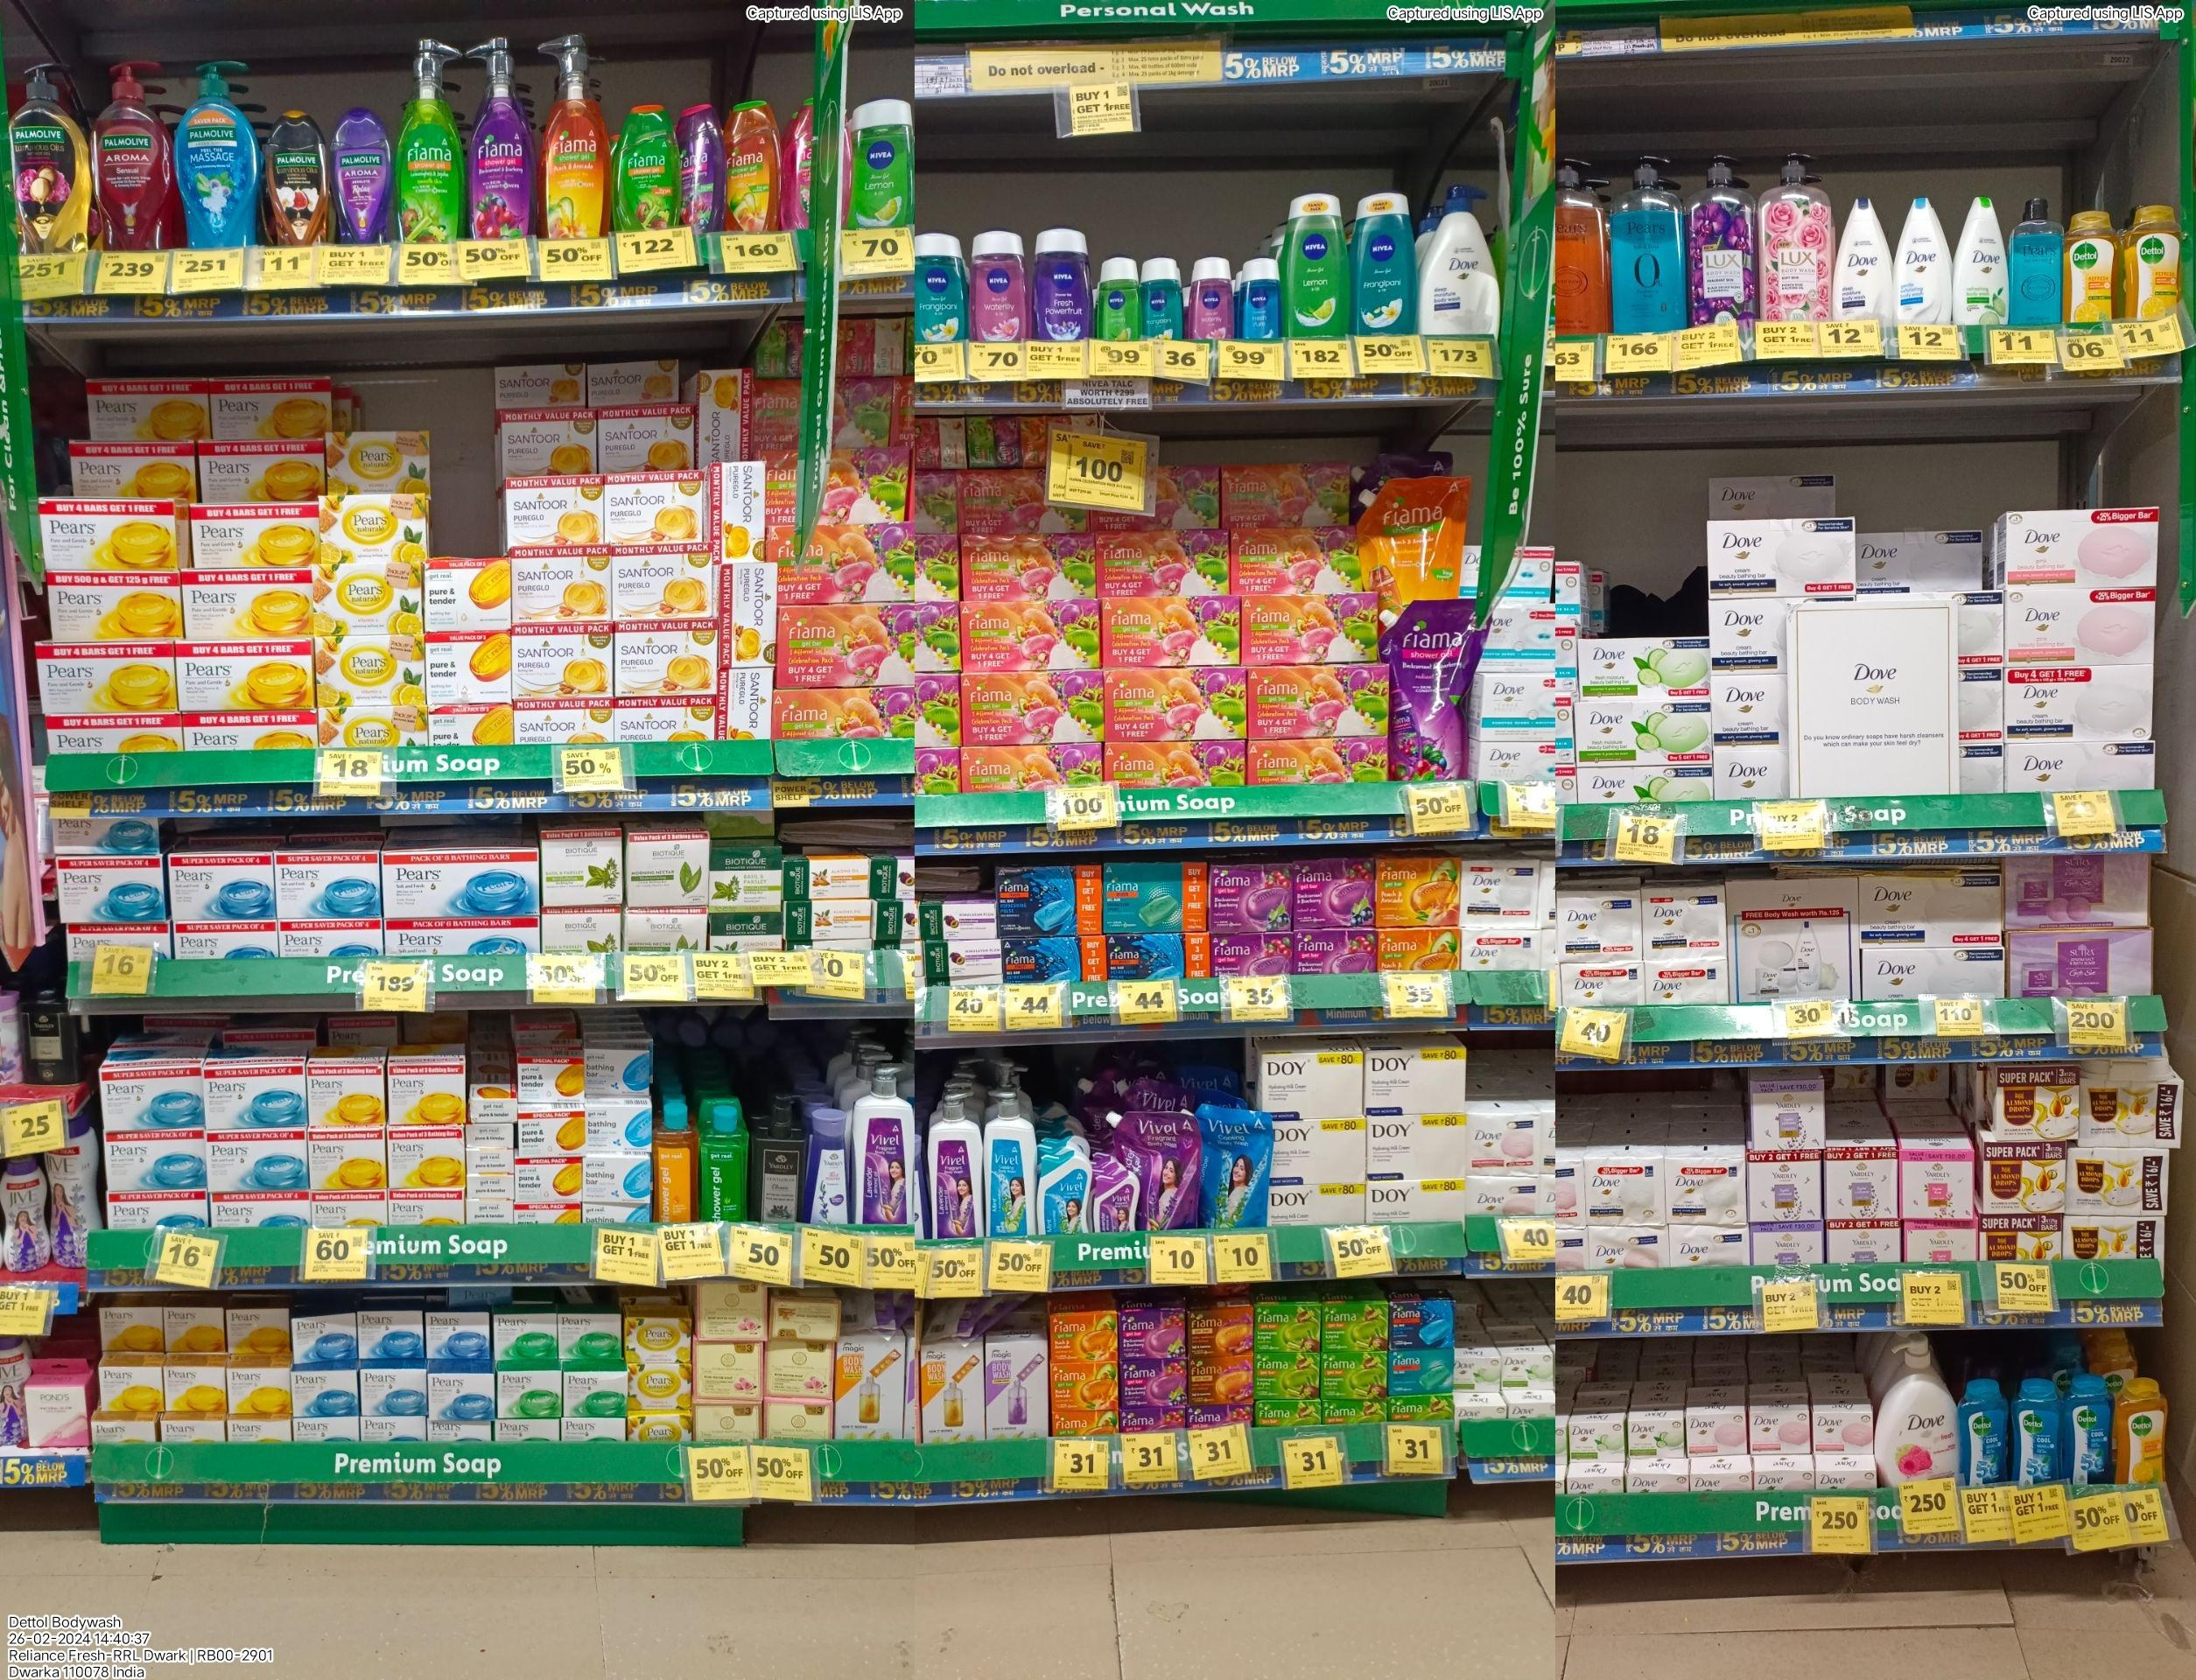Dettol_Bodywash_Cool: (2009, 1376, 2062, 1482), (2064, 1371, 2111, 1486), (1959, 1378, 2007, 1484)
Dettol_Bodywash_Refresh: (2064, 210, 2118, 323), (2125, 205, 2178, 321), (2113, 1376, 2166, 1484)
Dove_Deep_Moisture_Body_Wash_250ML: (1832, 196, 1892, 323)
Dove_Gentle_Exfoliating_Body_Wash_250ML: (1894, 196, 1951, 325)
Dove_Refreshing_Body_Wash_250ML: (1952, 196, 2011, 326)
Fiama_Shower_Gel_Lemongrass_and_Jojoba_250ML: (613, 102, 681, 229)
Fiama_Shower_Gel_Patchouli_and_Macadamia_250ML: (782, 95, 846, 229)
Fiama_Shower_Gel_Peach_and_Avocado_250ML: (724, 99, 780, 231)
Nivea_Shower_Gel_Frangipani_and_Oil_250ML: (1352, 192, 1418, 335), (914, 231, 967, 342), (1140, 256, 1184, 341)
Nivea_Shower_Gel_Fresh_Powerfruit_250ML: (1034, 224, 1094, 339)
Nivea_Shower_Gel_Lemon_and_Oil_250ML: (1283, 191, 1350, 335), (846, 94, 913, 229), (1096, 256, 1139, 341)
Nivea_Shower_Gel_Waterlily_and_Oil_250ML: (971, 228, 1031, 341), (1188, 256, 1236, 341)
Palmolive_Aroma_Relax_250ML: (332, 108, 392, 244)
Palmolive_Luminous_Oils_With_White_Orchid_Shower_Gel_250ML: (263, 108, 332, 245)
